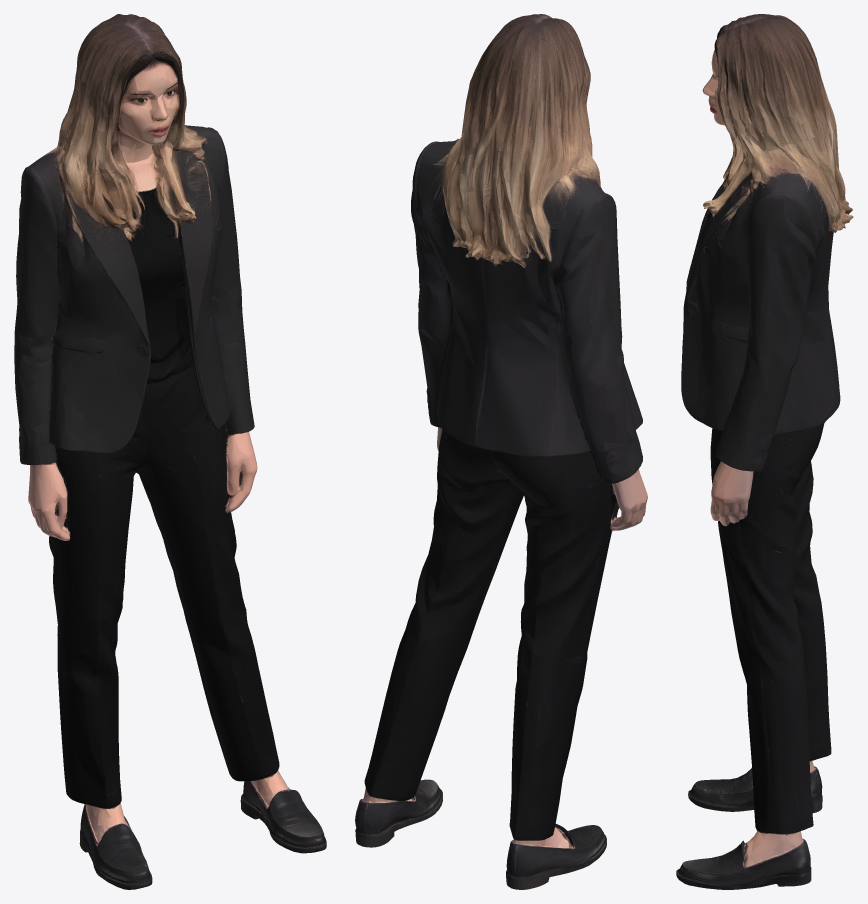
The model's file is retail-ecommerce.glb.
The picture shows the model from 3 angles, left to right: view 1: azimuth 30°, elevation 25°; view 2: azimuth 150°, elevation 25°; view 3: azimuth 270°, elevation 25°; orthographic projection. The views are drawn at different scales.
Bounding box in the file's own units: 0.6449 × 1.9 × 0.3837.
Materials: 1 (1 with a texture image).
